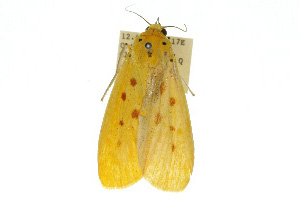Agape chloropyga: (97, 5, 198, 192)
moth: (96, 6, 197, 193)
